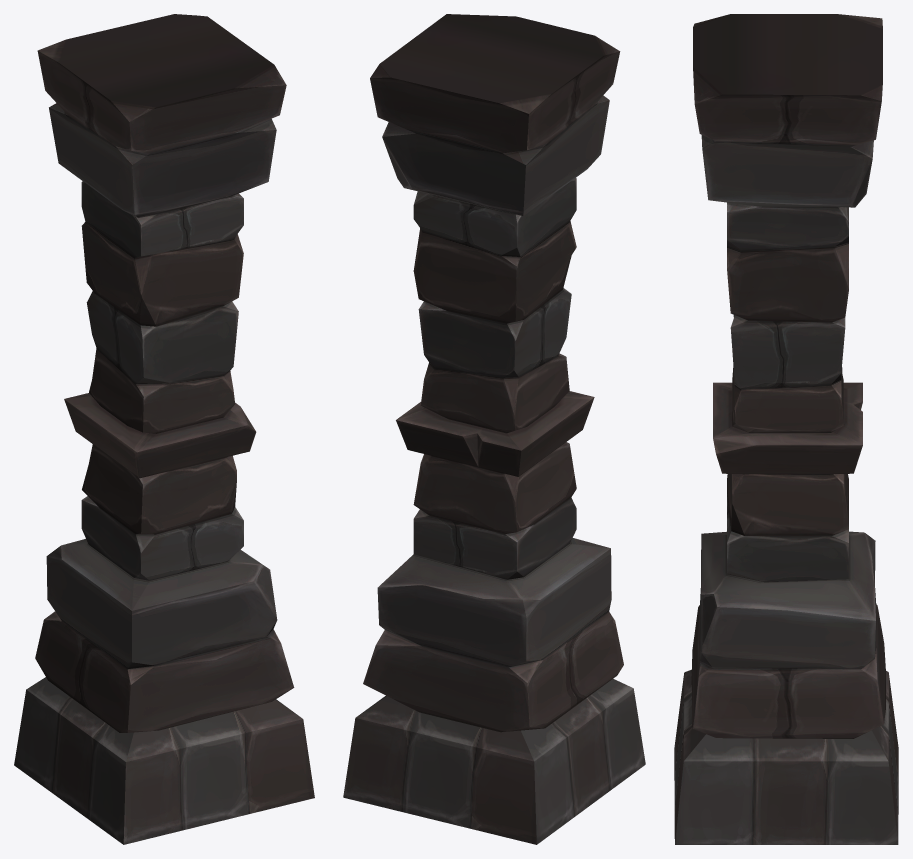
File: A_CA_GEN_Column_01.fbx
3 renders of one model, left to right at view 1: azimuth 30°, elevation 25°; view 2: azimuth 150°, elevation 25°; view 3: azimuth 270°, elevation 25°, orthographic. The views are drawn at different scales.
Visible parts, largest first — view 1: A_CA_GEN_Column_01; view 2: A_CA_GEN_Column_01; view 3: A_CA_GEN_Column_01.
Part boxes in pixels (x1,y1,x2,y2): A_CA_GEN_Column_01: (14, 14, 314, 844); A_CA_GEN_Column_01: (343, 14, 645, 844); A_CA_GEN_Column_01: (674, 14, 898, 844).
Size of the model in its own units: 337 by 1205 by 330.
1 material, 1 textured.
